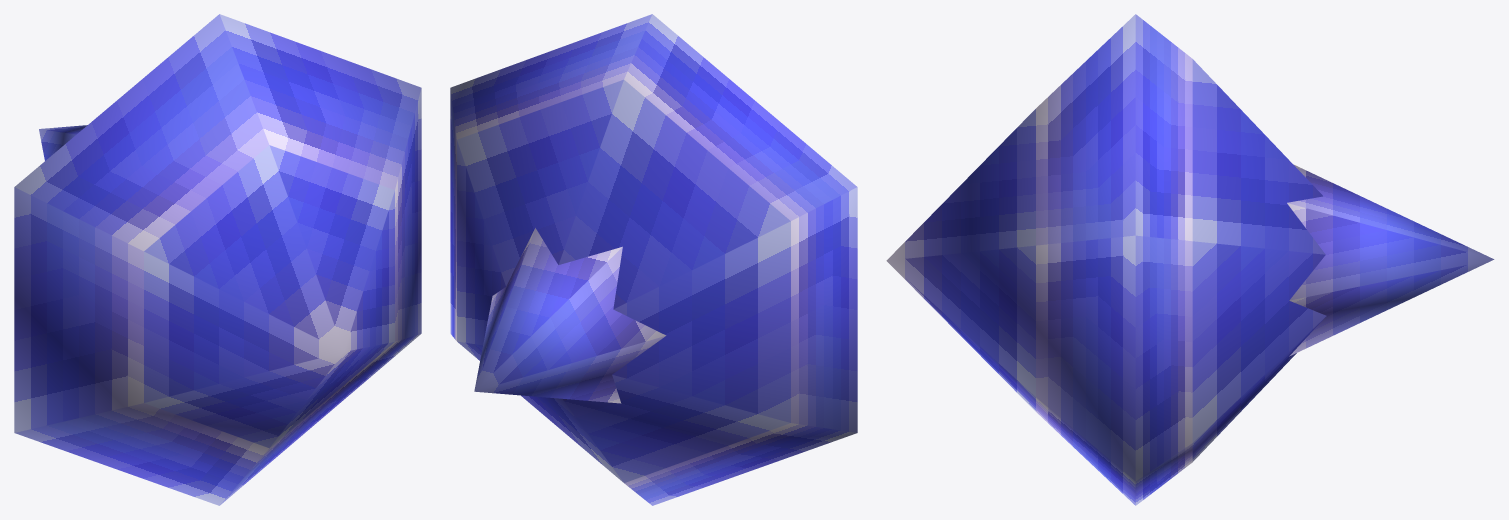
The model's file is JewelOfNightmare.glb.
The picture shows the model from 3 angles, left to right: view 1: azimuth 30°, elevation 25°; view 2: azimuth 150°, elevation 25°; view 3: azimuth 270°, elevation 25°; orthographic projection.
Parts seen in each view (by area): view 1: model_JewelOfNightmare; view 2: model_JewelOfNightmare; view 3: model_JewelOfNightmare.
Part boxes in pixels (box(x1,y1,x2,y2)): model_JewelOfNightmare: box(14, 14, 421, 505); model_JewelOfNightmare: box(450, 14, 857, 505); model_JewelOfNightmare: box(886, 14, 1494, 505).
Size of the model in its own units: 0.3377 by 0.39 by 0.4369.
2 materials, 2 textured.
